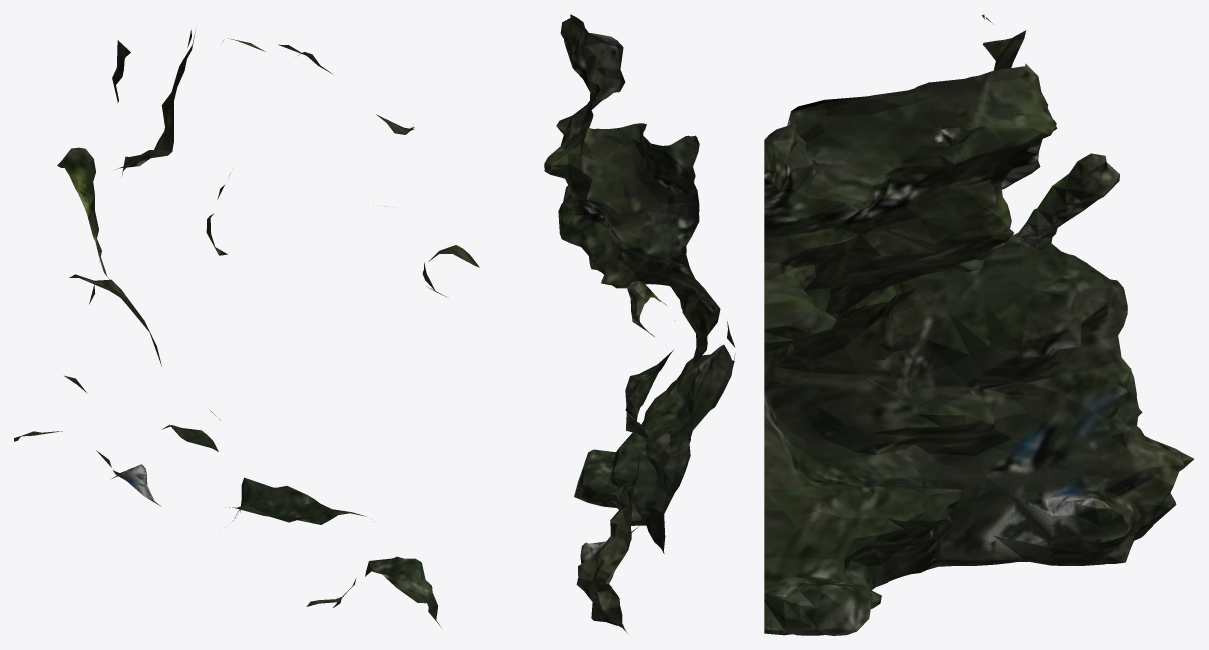
3 renders of one model, left to right at view 1: azimuth 30°, elevation 25°; view 2: azimuth 150°, elevation 25°; view 3: azimuth 270°, elevation 25°, orthographic. The views are drawn at different scales.
Bounding box in the file's own units: 1.8 × 3.35 × 2.49.
Materials: 3 (3 with a texture image).
